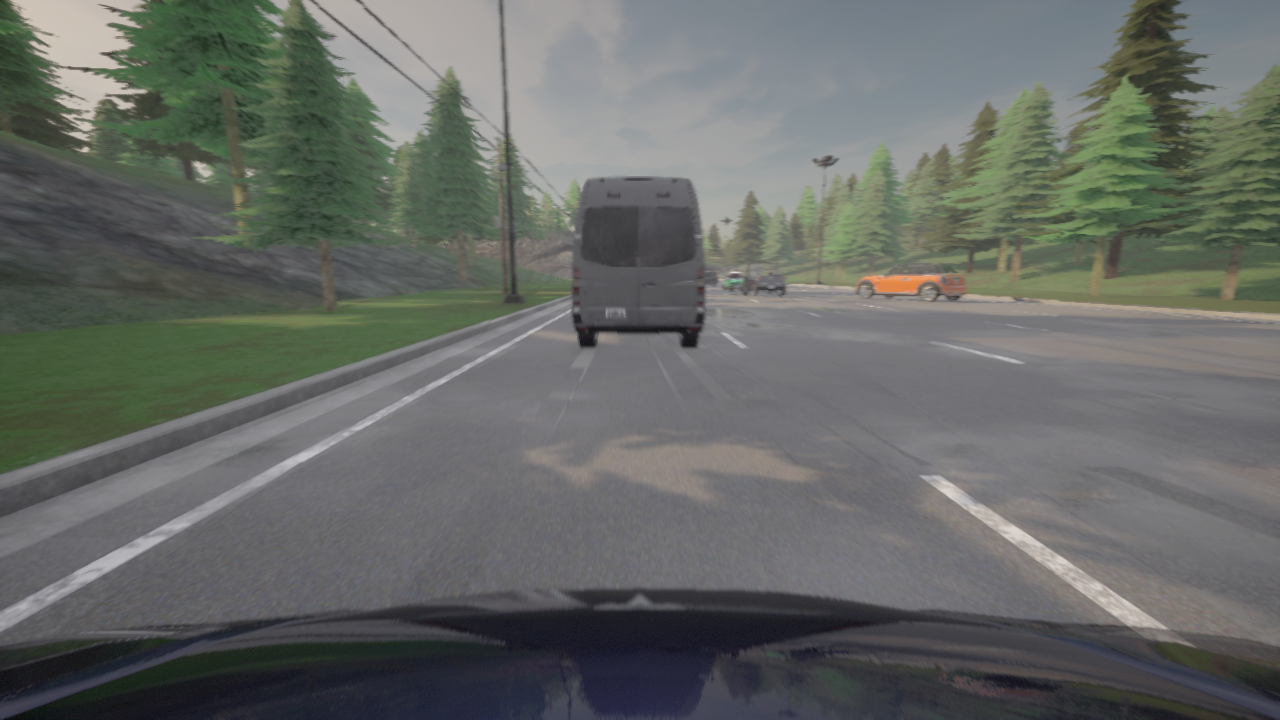cyclist: (0, 588, 1279, 719), (572, 177, 705, 346), (855, 262, 967, 301), (743, 268, 785, 295), (724, 271, 743, 290), (704, 270, 715, 284), (713, 271, 718, 281)
